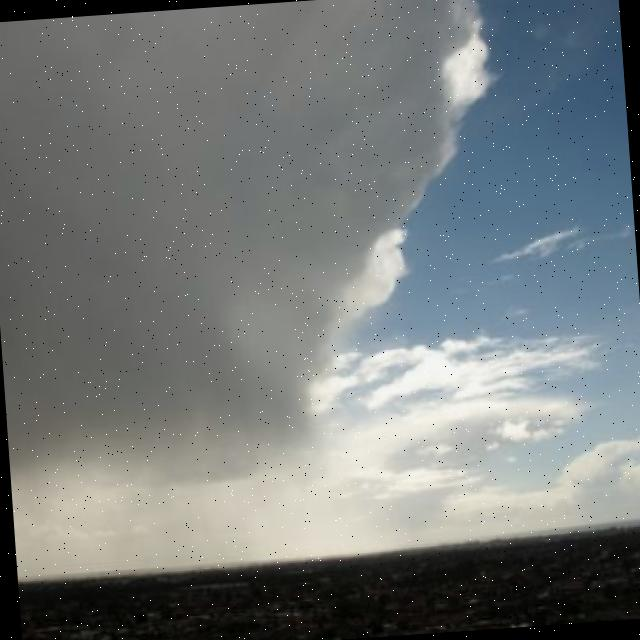Cb: (1, 1, 640, 513)
